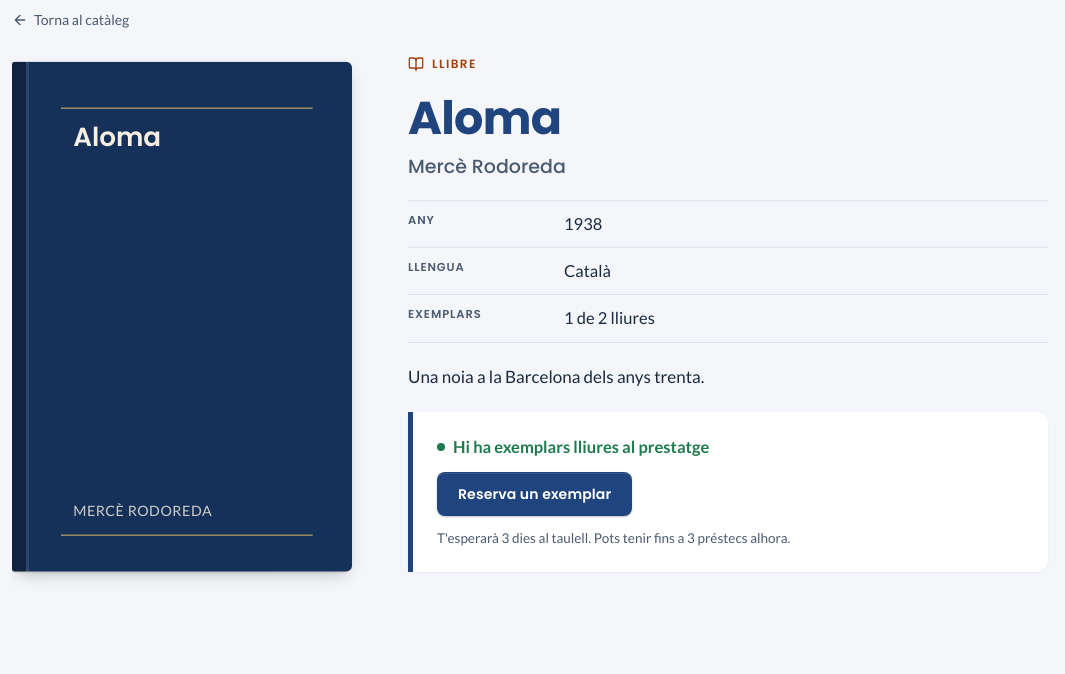
Test: ItemPage › a reader reserves a copy and is told where to find it
Click the button "Reserva un exemplar". click: (535, 494)
box: [437, 472, 632, 516]
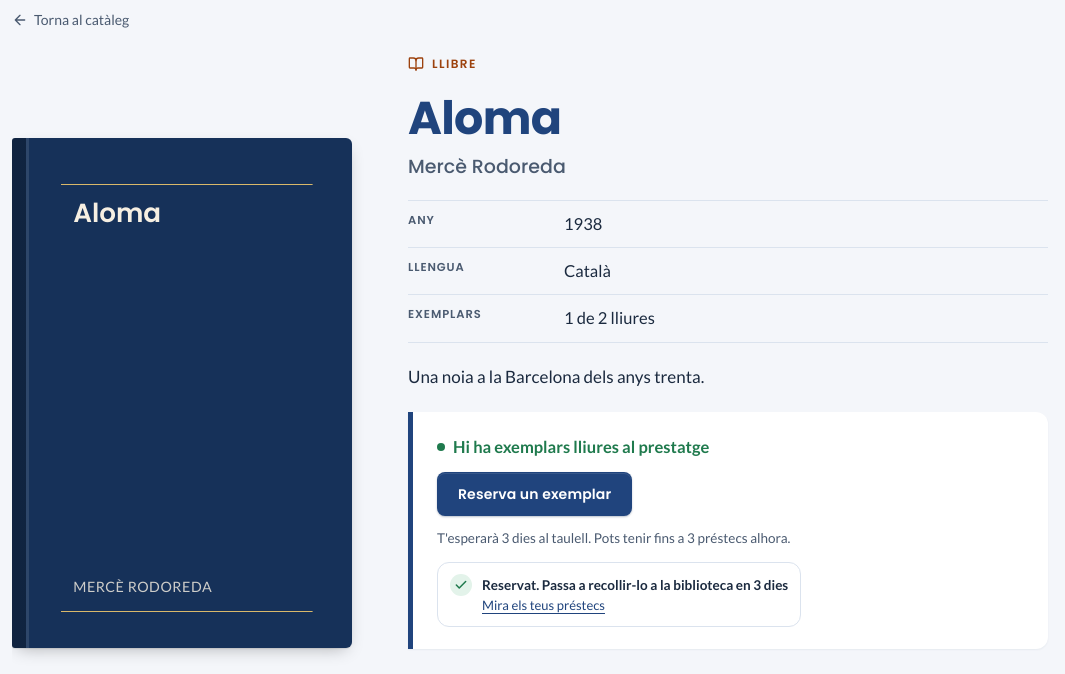
expect the text "Reservat. Passa a recollir-lo a la biblioteca en 3 dies" is shown: met, box [482, 576, 788, 594]
expect the link "Mira els teus préstecs" is shown: met, box [482, 597, 605, 613]
